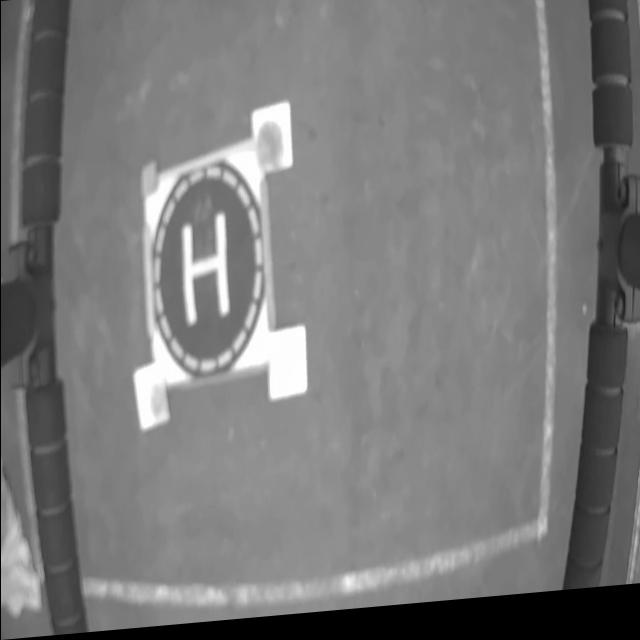Helipad: (180, 215, 229, 330)
